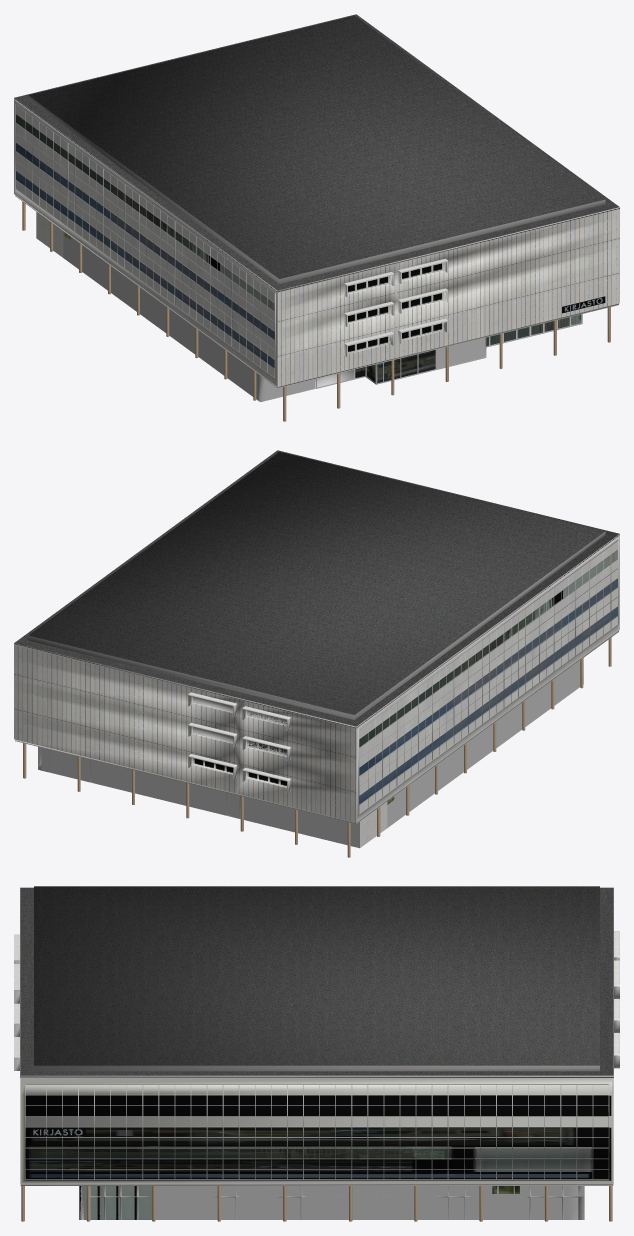
Rendered from library-1.fbx.
The picture shows the model from 3 angles, top to bottom: view 1: azimuth 30°, elevation 25°; view 2: azimuth 150°, elevation 25°; view 3: azimuth 270°, elevation 25°; orthographic projection. The views are drawn at different scales.
Visible parts, largest first — view 1: library-1; view 2: library-1; view 3: library-1.
Boxes of the visible parts, left/top/right/bottom form: library-1: left=14, top=14, right=619, bottom=421; library-1: left=14, top=450, right=619, bottom=857; library-1: left=14, top=886, right=619, bottom=1221.
Size of the model in its own units: 3616 by 4900 by 1392.
